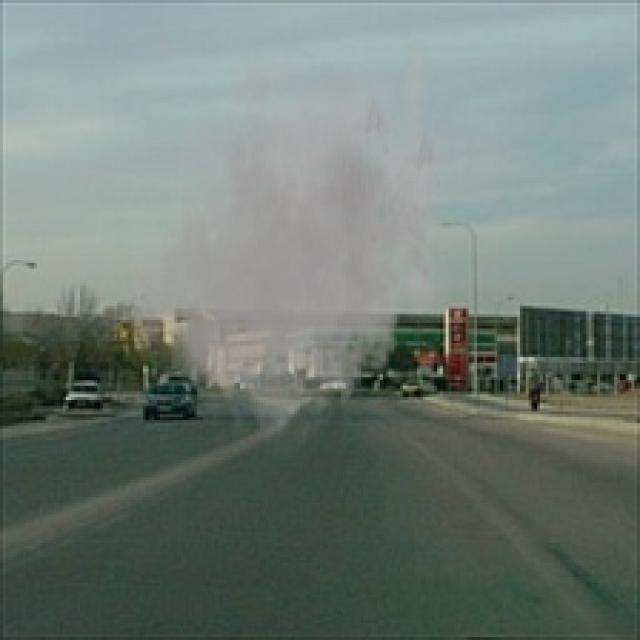smoke: (117, 31, 460, 452)
